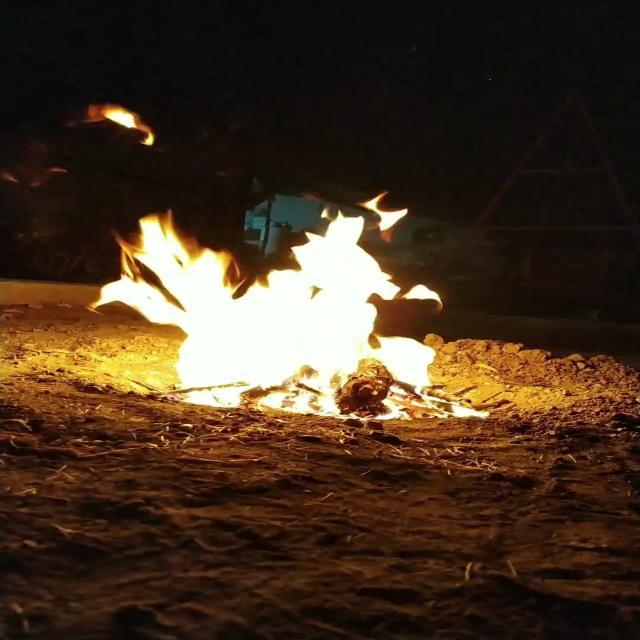Fire: (68, 188, 474, 418)
